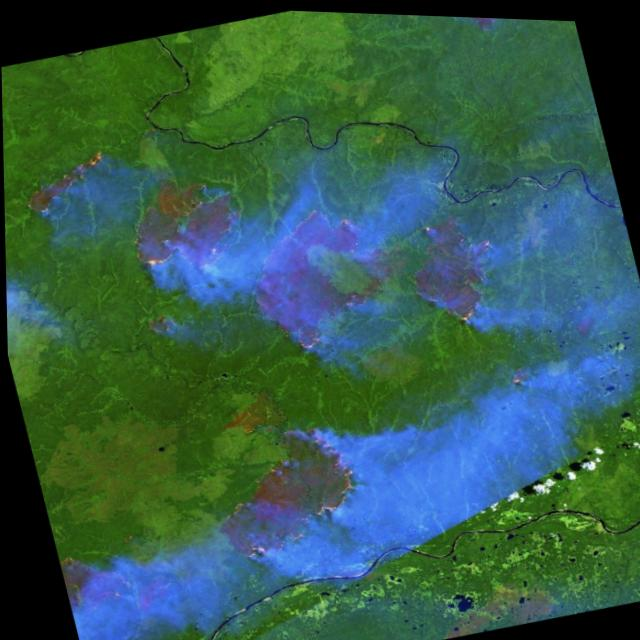fire: (228, 190, 412, 367), (185, 410, 374, 580), (396, 203, 515, 341), (123, 207, 232, 291), (6, 143, 121, 221), (441, 13, 519, 32), (497, 355, 537, 387)
